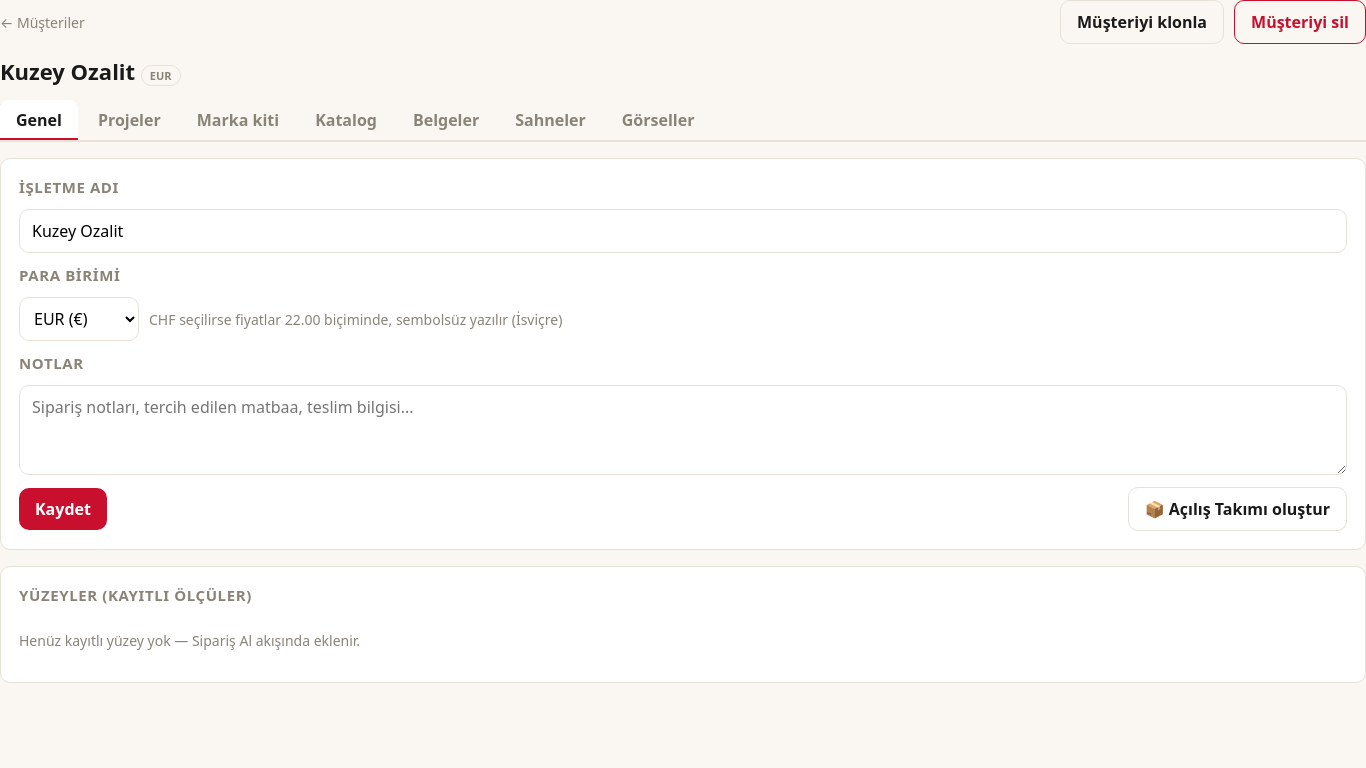
ön-koşul — soru GERÇEKTEN soruluyor › BELGESİ OLAN müşteride modal açılır ve İKİ seçenek + vazgeç taşır
Click the button "Müşteriyi klonla" at x=1142, y=22, box [1060,0,1224,44]
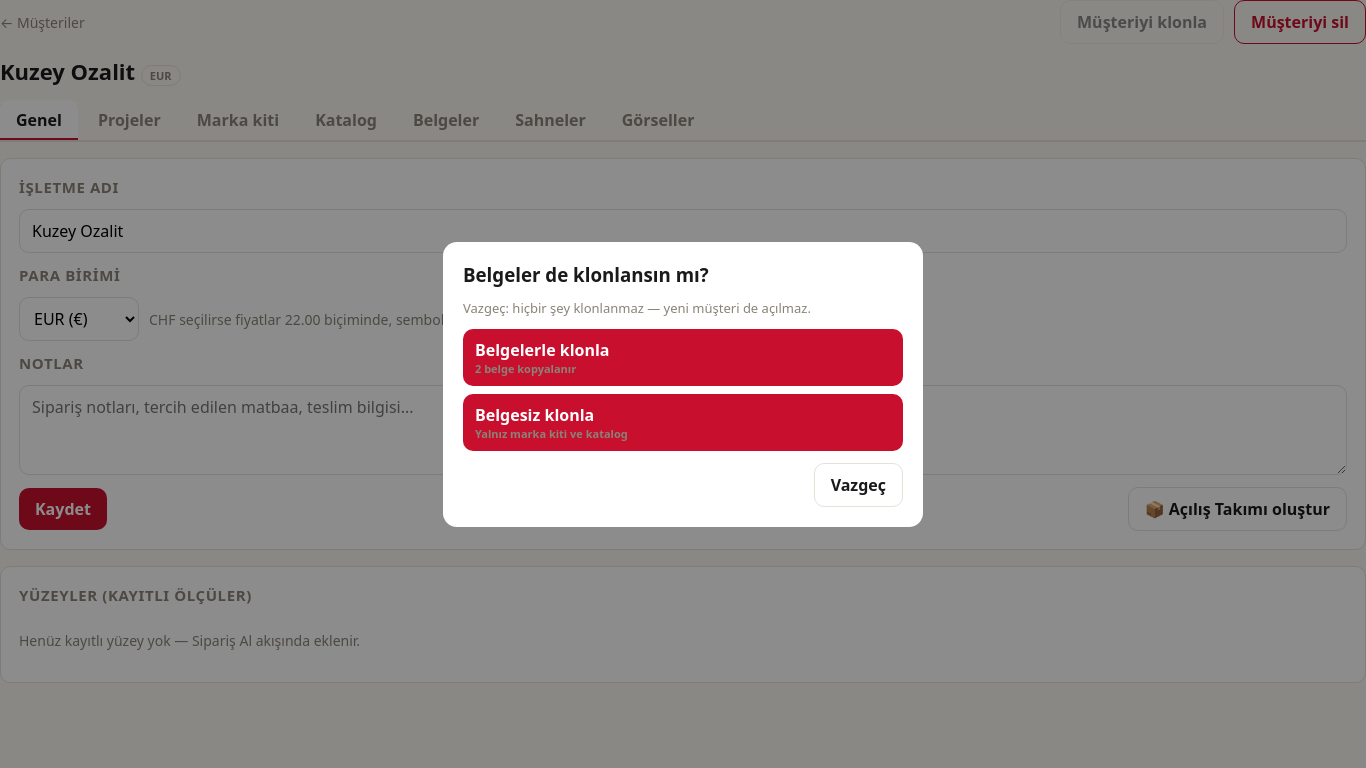
Result: the heading "Belgeler de klonlansın mı?" is shown at [463,262,709,286]
Result: the button "Belgelerle klonla 2 belge kopyalanır" is shown at [463,328,903,386]
Result: the button "Belgesiz klonla Yalnız marka kiti ve katalog" is shown at [463,394,903,450]
